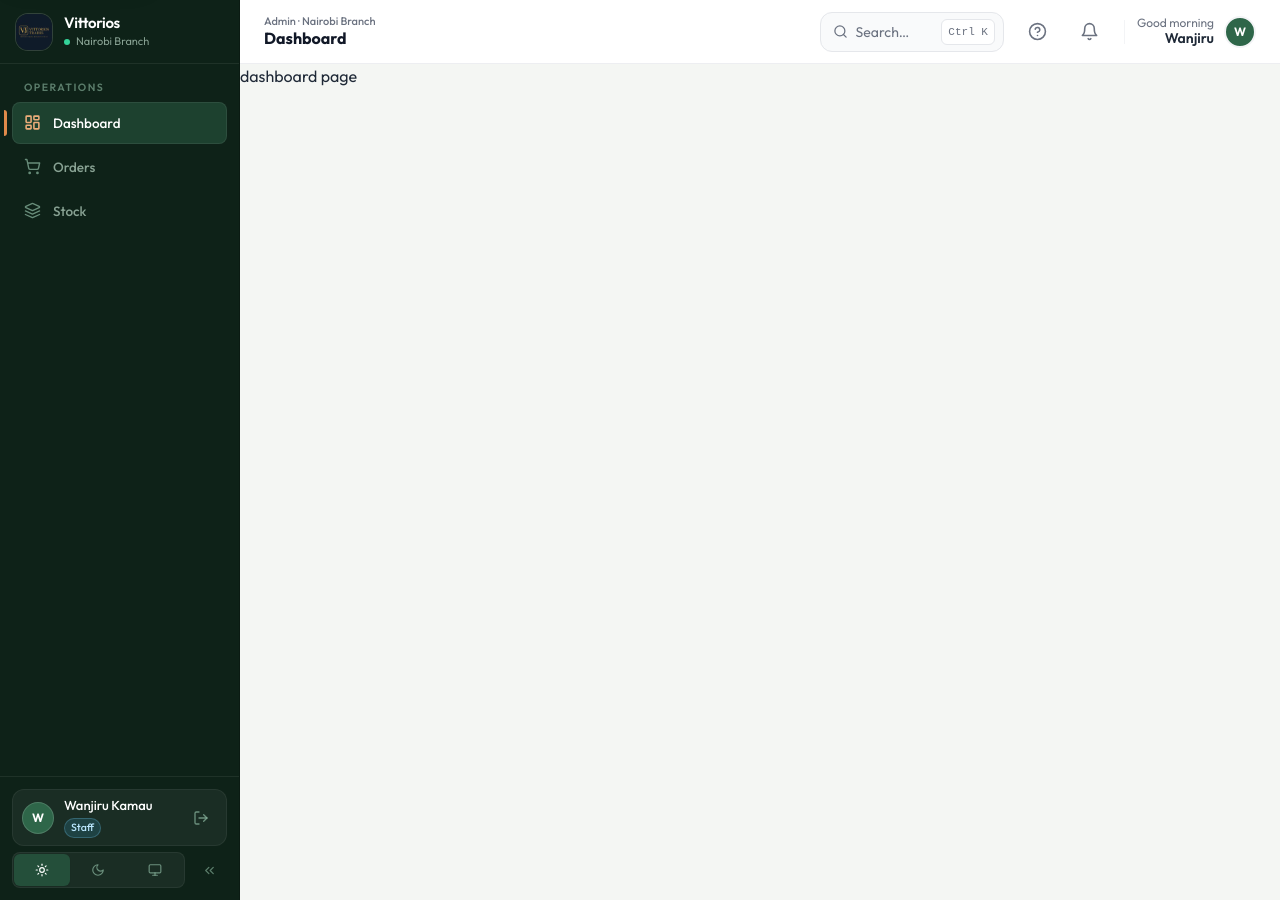
Scenario: AdminLayout — alerts › shows an explicit all-clear
The image size is (1280, 900).
Click the button named "alerts, none need attention" at (1090, 32), box [1068,10,1112,54]
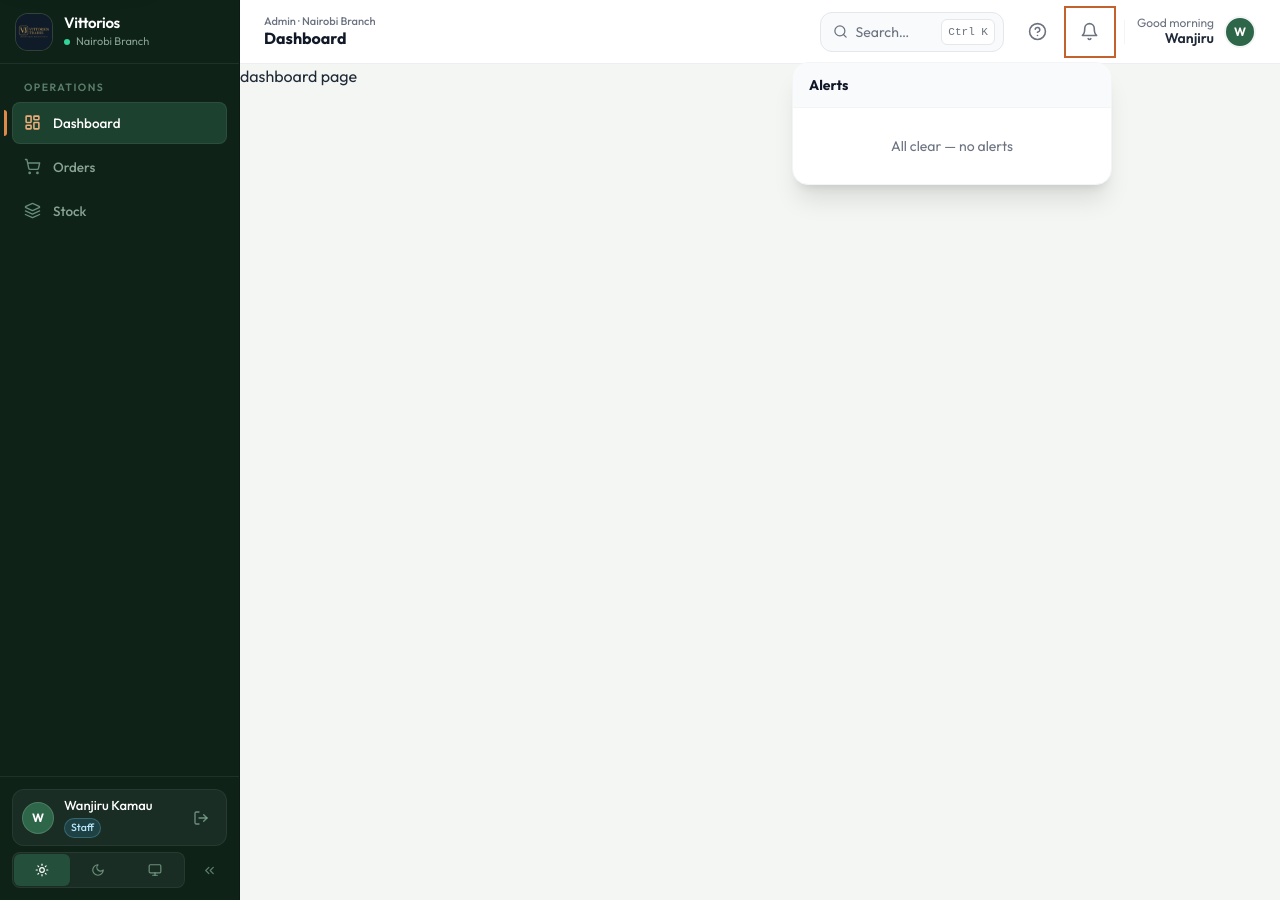
Expected: the text "All clear — no alerts" is shown, [891,136,1013,154]
